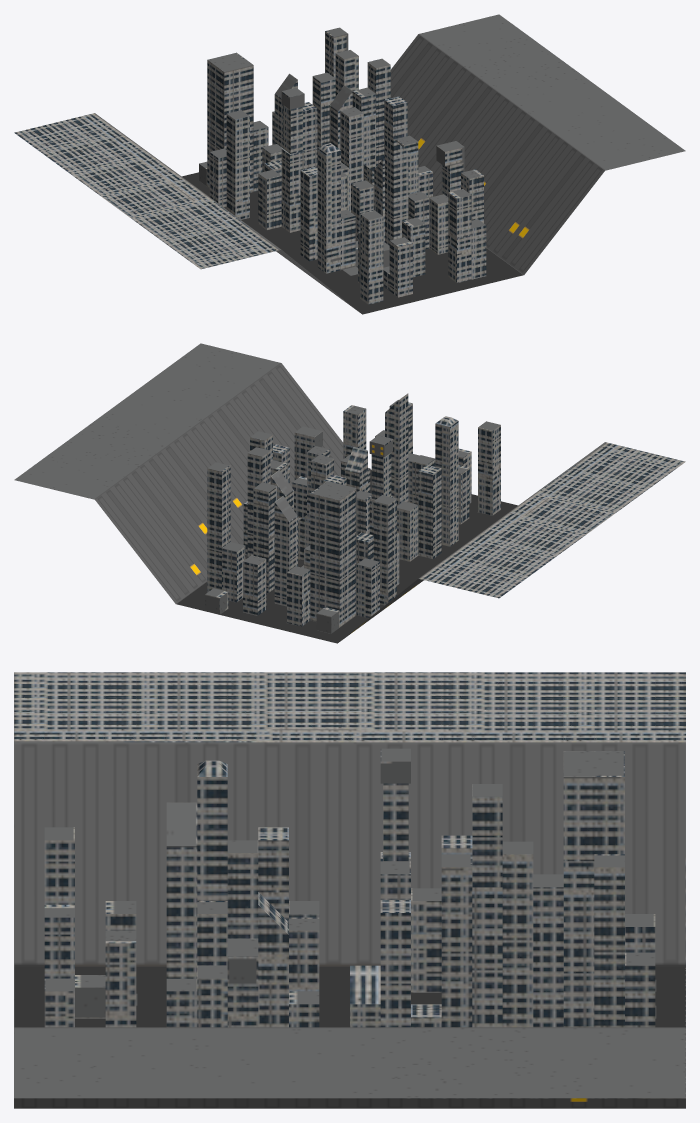
The model's file is Ny01CityBlocks.fbx.
The picture shows the model from 3 angles, top to bottom: view 1: azimuth 30°, elevation 25°; view 2: azimuth 150°, elevation 25°; view 3: azimuth 270°, elevation 25°; orthographic projection. The views are drawn at different scales.
Visible parts, largest first — view 1: Plane; view 2: Plane; view 3: Plane.
Boxes of the visible parts, x1,y1,x2,y2 form: Plane: (14, 14, 685, 314); Plane: (14, 343, 685, 643); Plane: (14, 672, 685, 1108).
Bounding box in the file's own units: 600 × 160 × 400.
1 material, 1 textured.
